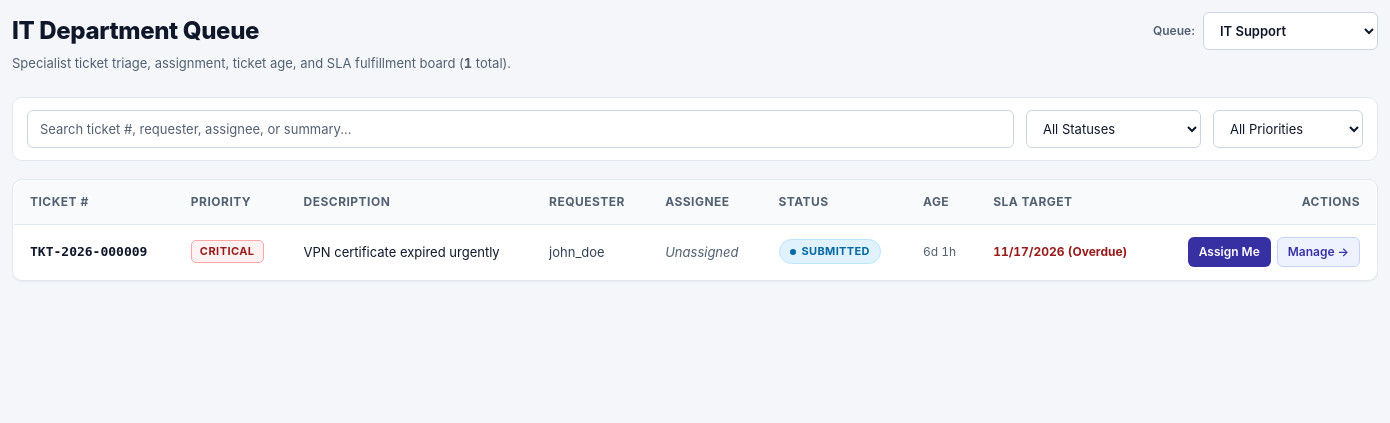
it: P9.6 Stage I — Comprehensive Frontend Interaction, Validation & Error Recovery Suite › P96-FE-05: DepartmentQueue renders SLA overdue indicator, filters by keyword, and assigns unassigned ticket
The width and height of the screenshot is (1390, 423).
expect the text "TKT-2026-000009" is shown: met, box [14,224,175,279]
expect the text "11/17/2026 (Overdue)" is shown: met, box [977,224,1156,279]
Type "nonexistent-xyz" into the search field with placeholder "Search ticket #, requester, assignee, or summary...". click: (520, 129)
box: [27,110,1014,148]
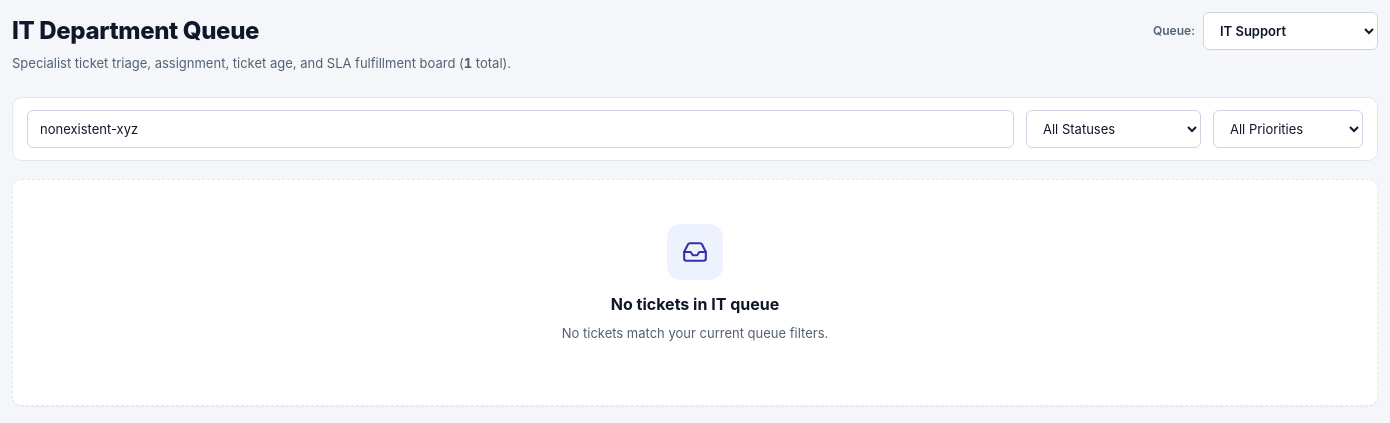
expect the heading "No tickets in IT queue" is shown: met, box [611,294,779,314]
